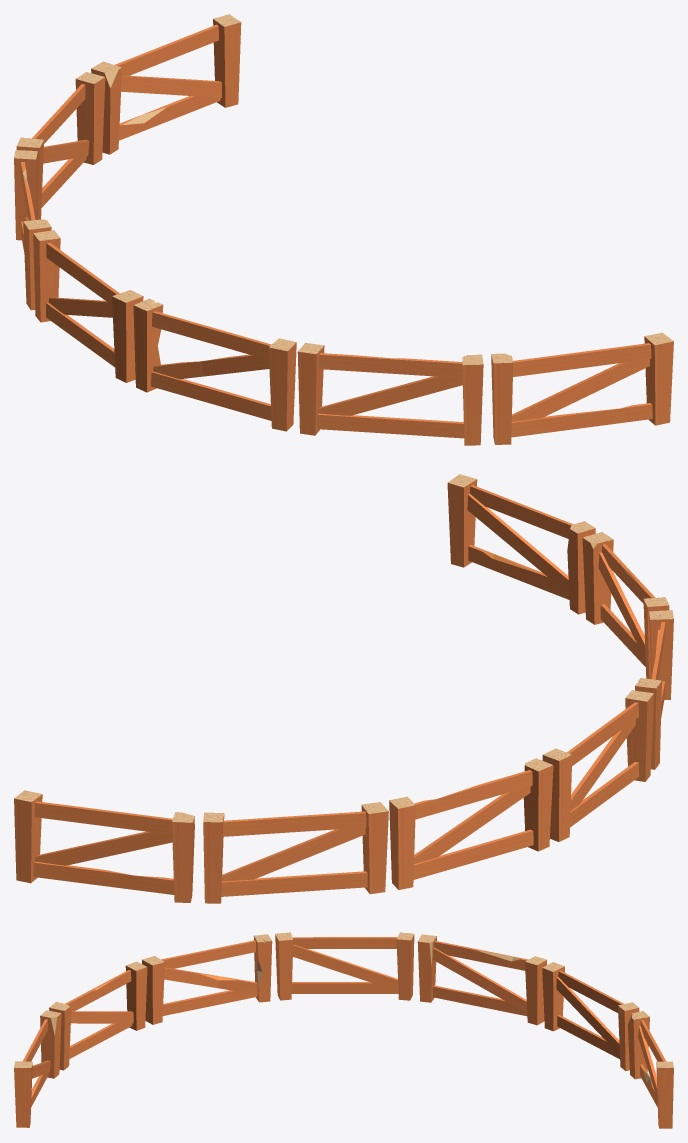
File: Fence_Z_2.fbx
The picture shows the model from 3 angles, top to bottom: view 1: azimuth 30°, elevation 25°; view 2: azimuth 150°, elevation 25°; view 3: azimuth 270°, elevation 25°; orthographic projection. The views are drawn at different scales.
Visible parts, largest first — view 1: Fence_Z_2; view 2: Fence_Z_2; view 3: Fence_Z_2.
Boxes of the visible parts, <box> form: Fence_Z_2: <box>14,14,673,445</box>; Fence_Z_2: <box>14,474,673,903</box>; Fence_Z_2: <box>14,932,673,1128</box>.
Bounding box in the file's own units: 400 × 83.56 × 819.
